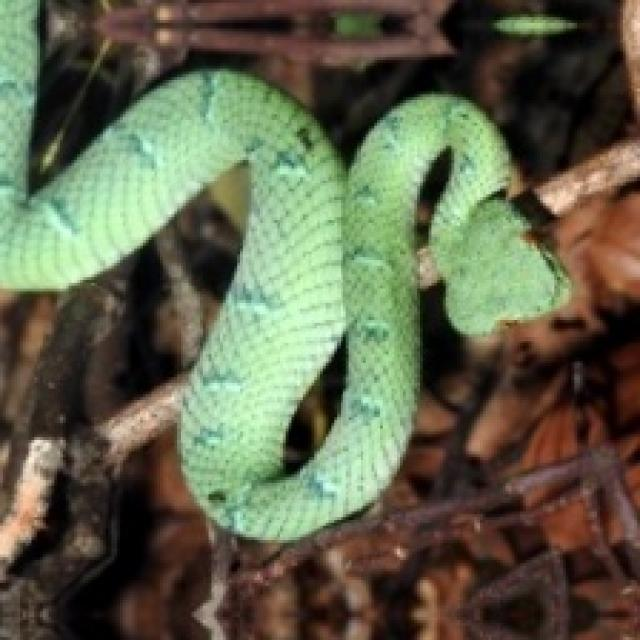north ph temple pitviper: (0, 0, 563, 537), (0, 71, 563, 537)
